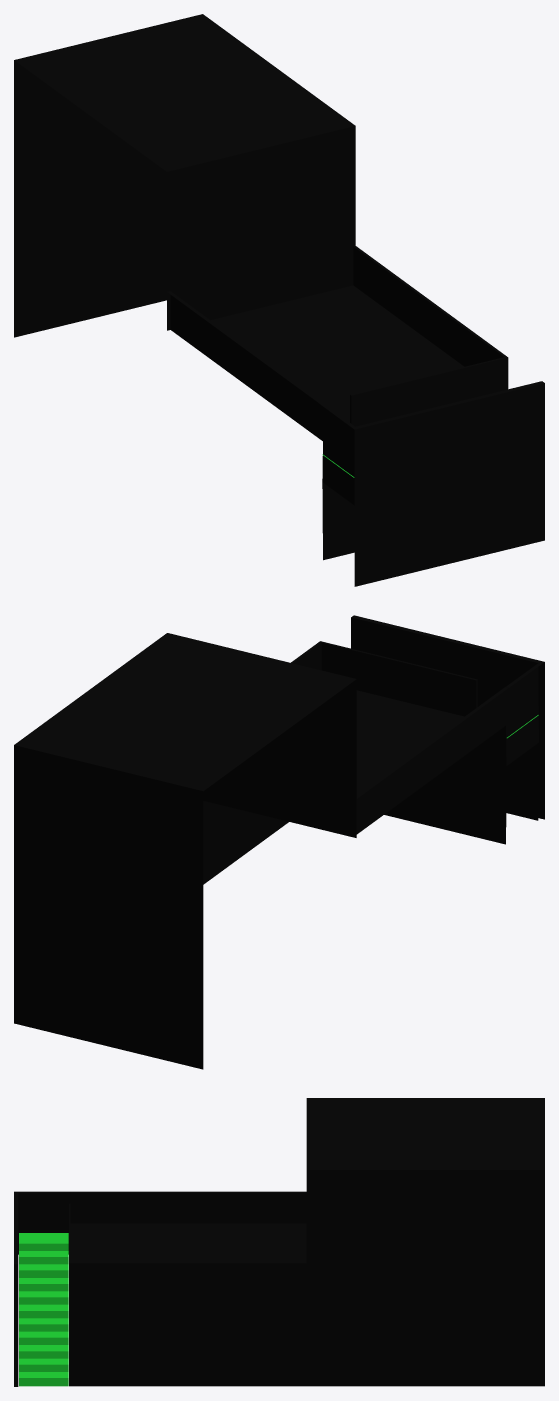
The model's file is office_building.fbx.
3 renders of one model, top to bottom at view 1: azimuth 30°, elevation 25°; view 2: azimuth 150°, elevation 25°; view 3: azimuth 270°, elevation 25°, orthographic. The views are drawn at different scales.
Parts seen in each view (by area): view 1: office_building; view 2: office_building; view 3: office_building.
Boxes of the visible parts, x1=… form: office_building: x1=14, y1=14, x2=544, y2=586; office_building: x1=14, y1=615, x2=544, y2=1069; office_building: x1=14, y1=1098, x2=544, y2=1386.
Size of the model in its own units: 504 by 702 by 1561.
